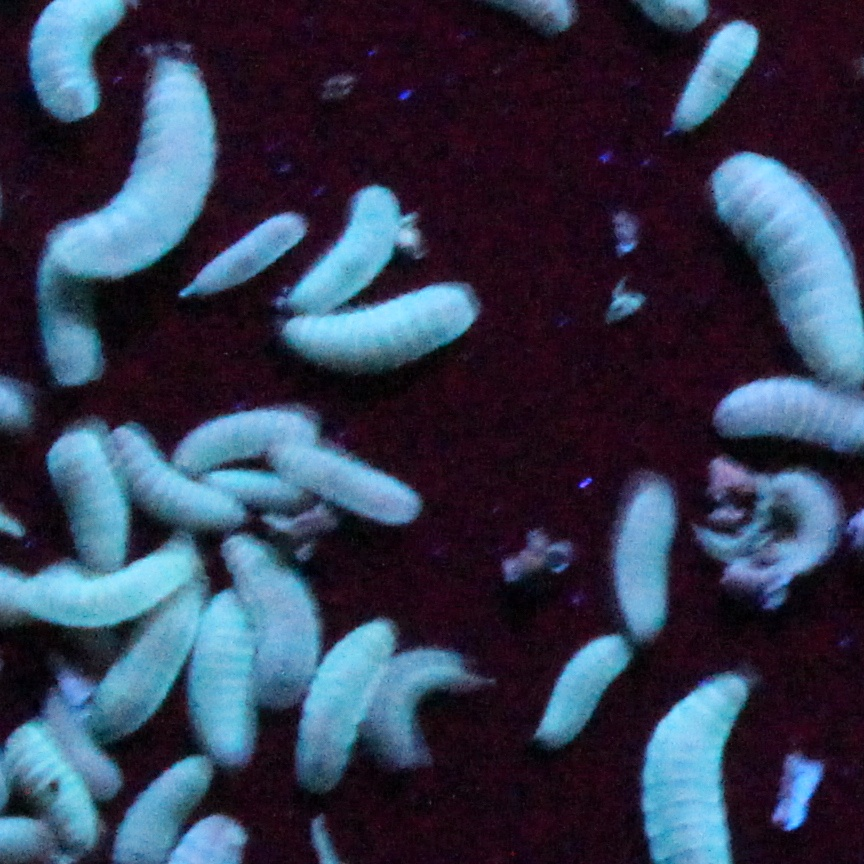larve: (55, 59, 213, 271), (283, 187, 399, 312), (296, 626, 387, 784), (282, 291, 470, 367), (229, 541, 312, 701), (271, 437, 416, 527), (190, 595, 264, 765), (95, 606, 195, 730), (110, 432, 241, 526), (178, 208, 308, 297), (6, 727, 100, 846), (44, 438, 133, 563), (533, 634, 627, 751), (50, 547, 199, 619), (381, 653, 472, 761), (675, 23, 759, 132), (172, 405, 312, 470), (615, 480, 672, 639), (43, 266, 111, 383)
